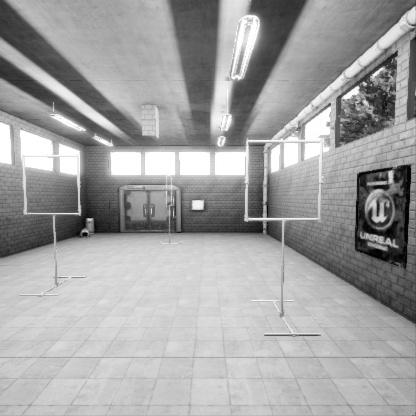gate: (248, 198, 331, 280), (29, 204, 88, 261), (166, 210, 172, 243)
